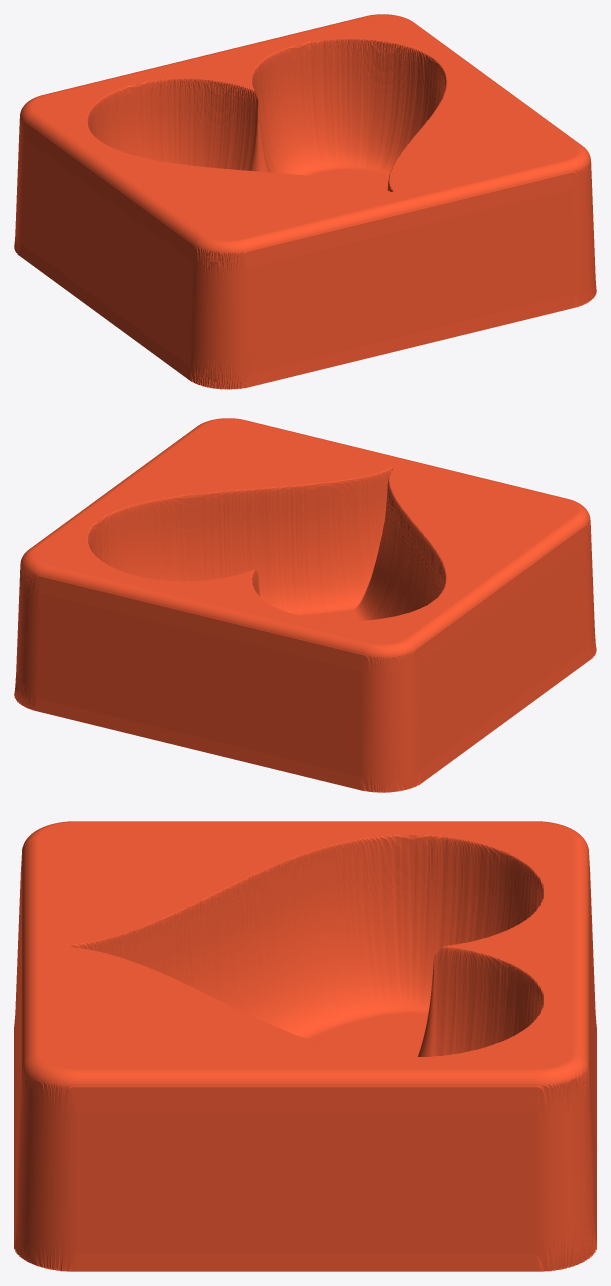
The model's file is mold.glb.
The picture shows the model from 3 angles, top to bottom: view 1: azimuth 30°, elevation 25°; view 2: azimuth 150°, elevation 25°; view 3: azimuth 270°, elevation 25°; orthographic projection. The views are drawn at different scales.
Parts seen in each view (by area): view 1: geometry_0; view 2: geometry_0; view 3: geometry_0.
Part boxes in pixels (box(x1,y1,x2,y2)): geometry_0: box(14, 14, 596, 389); geometry_0: box(14, 418, 596, 792); geometry_0: box(14, 821, 596, 1271).
Size of the model in its own units: 0.0924 by 0.031 by 0.0852.
